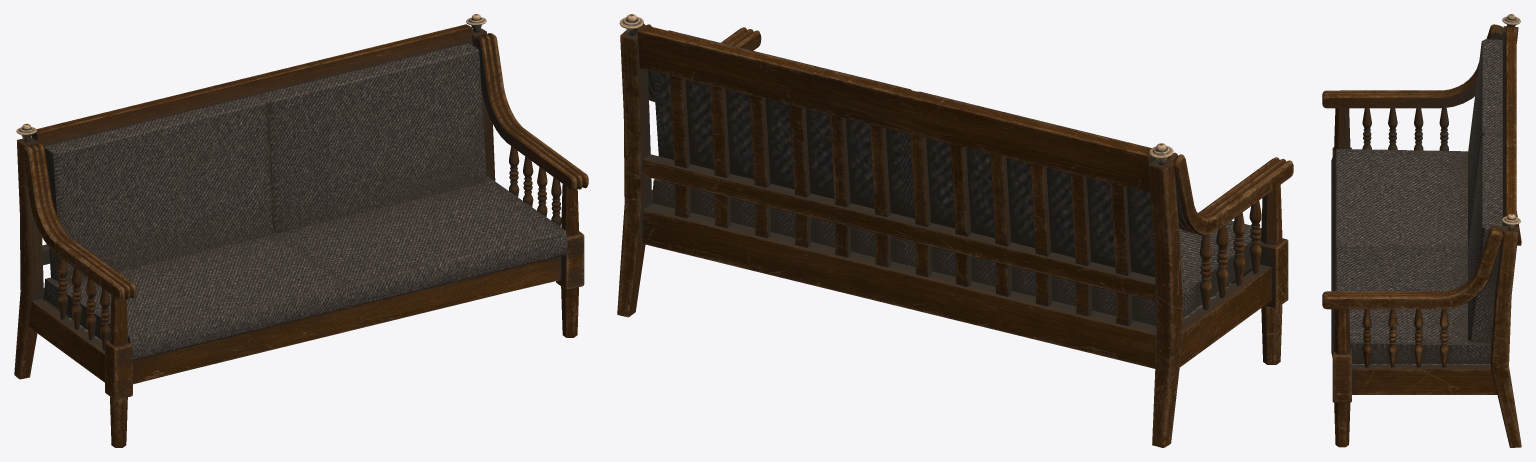
File: office_sofa_-25mb.glb
3 renders of one model, left to right at view 1: azimuth 30°, elevation 25°; view 2: azimuth 150°, elevation 25°; view 3: azimuth 270°, elevation 25°, orthographic. The views are drawn at different scales.
Visible parts, largest first — view 1: Cube_1; view 2: Cube_1; view 3: Cube_1.
Part boxes in pixels (bbox=[...]): Cube_1: bbox=[14, 14, 588, 447]; Cube_1: bbox=[617, 14, 1293, 447]; Cube_1: bbox=[1322, 14, 1521, 447].
Size of the model in its own units: 2.21 by 1.13 by 0.8913.
Materials: 1 (1 with a texture image).
